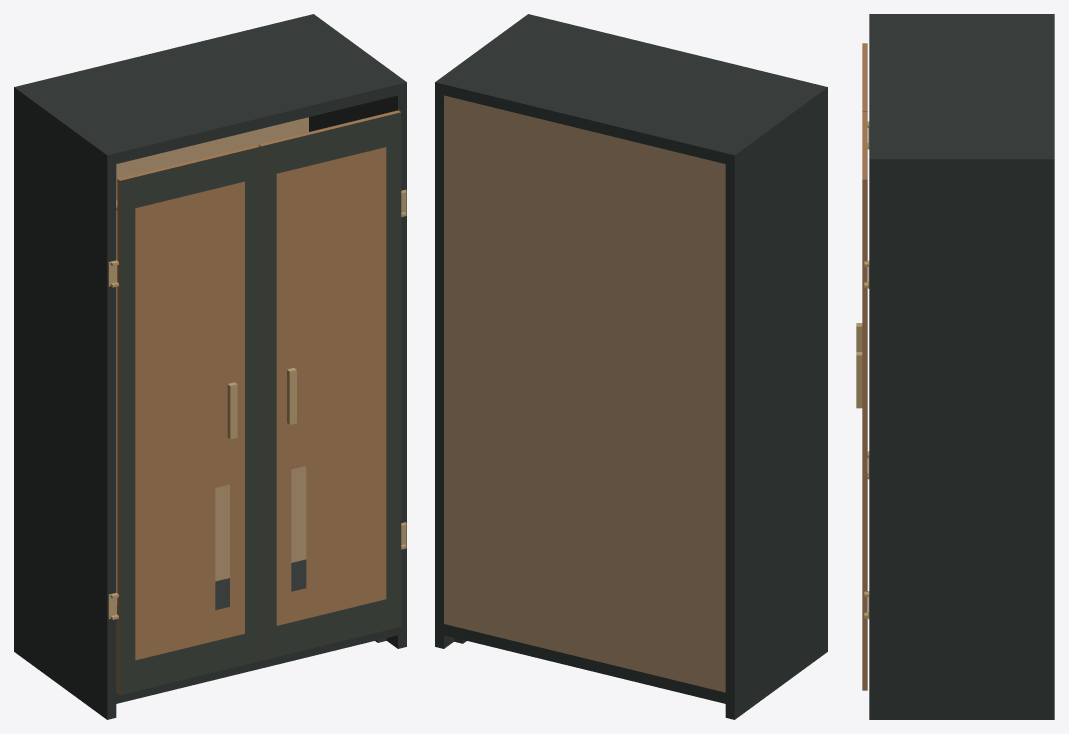
3 views of the same model, side by side, from view 1: azimuth 30°, elevation 25°; view 2: azimuth 150°, elevation 25°; view 3: azimuth 270°, elevation 25° (orthographic).
Visible parts, largest first — view 1: wardrobe-body, wardrobe-left-panel, wardrobe-right-panel, wardrobe-right-inset, wardrobe-left-inset, wardrobe-lining, wardrobe-hinge-mounts; view 2: wardrobe-lining, wardrobe-body; view 3: wardrobe-body, wardrobe-right-panel, wardrobe-left-panel, wardrobe-right-handle, wardrobe-hinge-mounts.
Boxes of the visible parts, <box> form: wardrobe-body: <box>14,14,406,719</box>; wardrobe-left-panel: <box>117,144,259,694</box>; wardrobe-right-panel: <box>258,110,400,660</box>; wardrobe-right-inset: <box>261,112,401,660</box>; wardrobe-left-inset: <box>120,147,260,694</box>; wardrobe-lining: <box>116,117,308,605</box>; wardrobe-hinge-mounts: <box>108,189,406,619</box>; wardrobe-lining: <box>444,95,725,692</box>; wardrobe-body: <box>435,14,827,719</box>; wardrobe-body: <box>869,14,1054,719</box>; wardrobe-right-panel: <box>862,112,867,690</box>; wardrobe-left-panel: <box>862,43,867,111</box>; wardrobe-right-handle: <box>856,352,862,408</box>; wardrobe-hinge-mounts: <box>864,121,869,619</box>.
Bounding box in the file's own units: 1 × 1.8 × 0.577.
